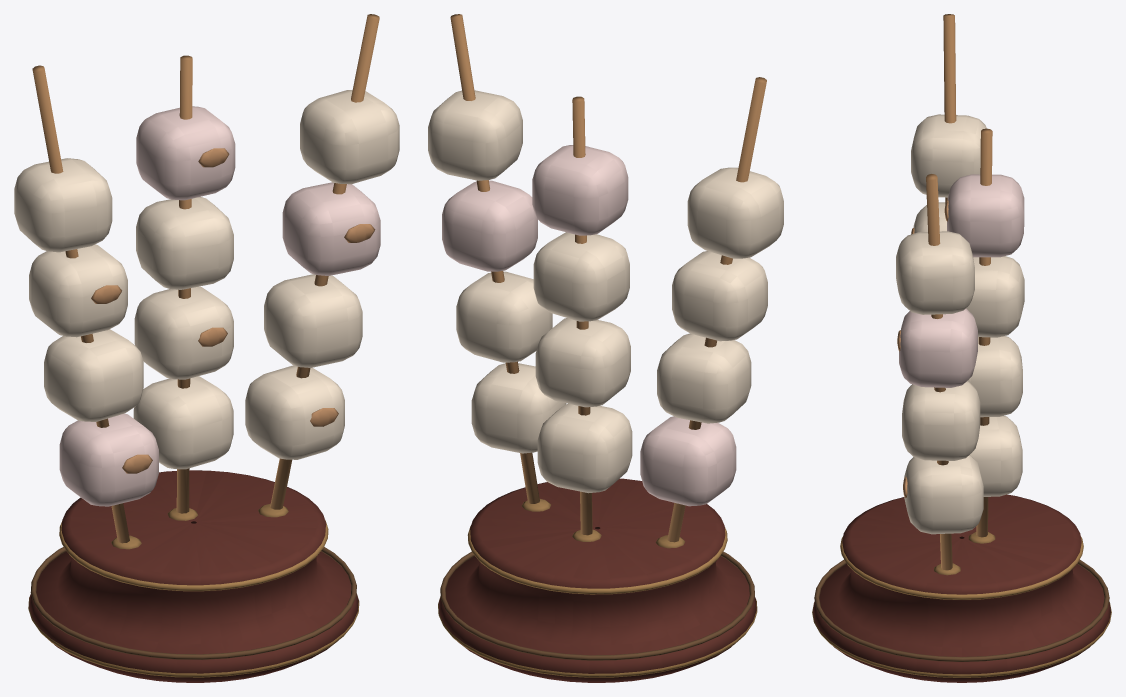
Rendered from marshmallow-skewer.glb.
3 views of the same model, side by side, from view 1: azimuth 30°, elevation 25°; view 2: azimuth 150°, elevation 25°; view 3: azimuth 270°, elevation 25° (orthographic). The views are drawn at different scales.
Parts seen in each view (by area): view 1: Shared_oxblood_pedestal, Right_pillowy_marshmallow_4, Right_pillowy_marshmallow_2, Left_pillowy_marshmallow_4, Middle_pillowy_marshmallow_3, Left_pillowy_marshmallow_2, Right_pillowy_marshmallow_1, Middle_pillowy_marshmallow_4, Middle_pillowy_marshmallow_2, Right_pillowy_marshmallow_3, Left_pillowy_marshmallow_1, Left_pillowy_marshmallow_3 (+7 smaller); view 2: Shared_oxblood_pedestal, Left_pillowy_marshmallow_4, Middle_pillowy_marshmallow_4, Middle_pillowy_marshmallow_3, Right_pillowy_marshmallow_3, Right_pillowy_marshmallow_4, Middle_pillowy_marshmallow_2, Middle_pillowy_marshmallow_1, Left_pillowy_marshmallow_1, Left_pillowy_marshmallow_3, Left_pillowy_marshmallow_2, Right_pillowy_marshmallow_2 (+7 smaller); view 3: Shared_oxblood_pedestal, Right_pillowy_marshmallow_4, Right_pillowy_marshmallow_2, Right_pillowy_marshmallow_3, Middle_pillowy_marshmallow_4, Right_pillowy_marshmallow_1, Left_pillowy_marshmallow_4, Middle_pillowy_marshmallow_3, Middle_pillowy_marshmallow_2, Middle_pillowy_marshmallow_1, Shared_recessed_dark_band, Shared_upper_antique_brass_molding (+5 smaller).
Boxes of the visible parts, <box> form: Shared_oxblood_pedestal: <box>29,470,358,682</box>; Right_pillowy_marshmallow_4: <box>300,90,399,184</box>; Right_pillowy_marshmallow_2: <box>264,274,362,367</box>; Left_pillowy_marshmallow_4: <box>14,158,112,252</box>; Middle_pillowy_marshmallow_3: <box>136,196,233,289</box>; Left_pillowy_marshmallow_2: <box>44,329,143,421</box>; Right_pillowy_marshmallow_1: <box>245,365,344,459</box>; Middle_pillowy_marshmallow_4: <box>136,106,235,200</box>; Middle_pillowy_marshmallow_2: <box>134,286,233,379</box>; Right_pillowy_marshmallow_3: <box>282,182,380,275</box>; Left_pillowy_marshmallow_1: <box>59,413,158,506</box>; Left_pillowy_marshmallow_3: <box>29,244,127,337</box>; Shared_oxblood_pedestal: <box>438,478,756,682</box>; Left_pillowy_marshmallow_4: <box>687,167,783,258</box>; Middle_pillowy_marshmallow_4: <box>532,145,628,235</box>; Middle_pillowy_marshmallow_3: <box>533,232,629,321</box>; Right_pillowy_marshmallow_3: <box>442,180,537,271</box>; Right_pillowy_marshmallow_4: <box>428,90,522,180</box>; Middle_pillowy_marshmallow_2: <box>535,318,630,407</box>; Middle_pillowy_marshmallow_1: <box>537,403,632,493</box>; Left_pillowy_marshmallow_1: <box>640,416,736,506</box>; Left_pillowy_marshmallow_3: <box>672,251,767,341</box>; Left_pillowy_marshmallow_2: <box>657,333,751,423</box>; Right_pillowy_marshmallow_2: <box>456,271,552,362</box>; Shared_oxblood_pedestal: <box>813,494,1110,682</box>; Right_pillowy_marshmallow_4: <box>896,231,974,314</box>; Right_pillowy_marshmallow_2: <box>902,381,980,460</box>; Right_pillowy_marshmallow_3: <box>899,308,977,387</box>; Middle_pillowy_marshmallow_4: <box>947,174,1024,257</box>; Right_pillowy_marshmallow_1: <box>904,455,983,534</box>; Left_pillowy_marshmallow_4: <box>911,114,986,197</box>; Middle_pillowy_marshmallow_3: <box>966,256,1024,337</box>; Middle_pillowy_marshmallow_2: <box>967,336,1022,417</box>; Middle_pillowy_marshmallow_1: <box>970,416,1022,496</box>; Shared_recessed_dark_band: <box>814,559,1109,661</box>; Shared_upper_antique_brass_molding: <box>840,536,1083,599</box>.
Size of the model in its own units: 1.02 by 1.65 by 0.824.
